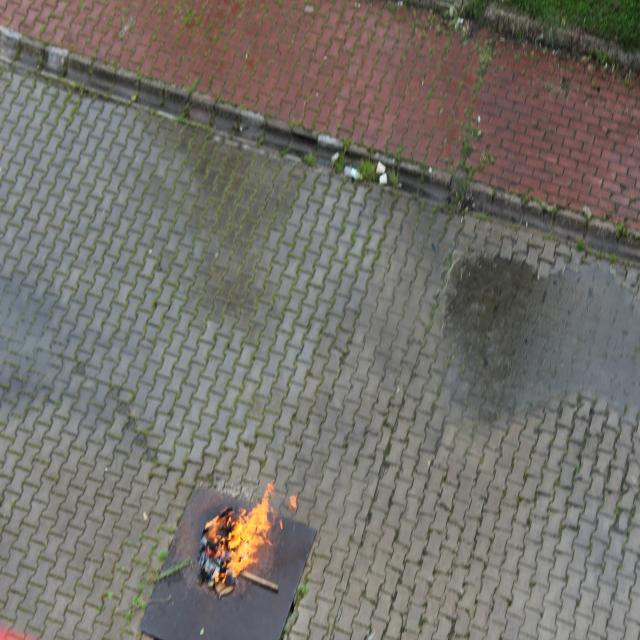fire: (201, 478, 298, 580)
